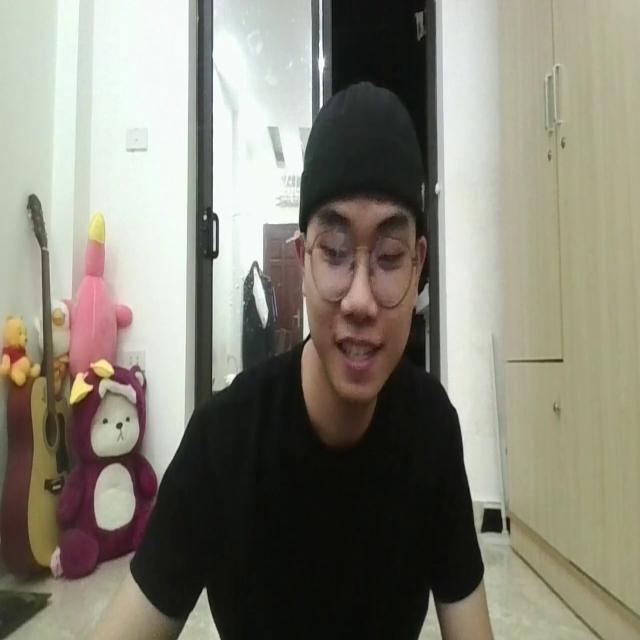student: (98, 84, 494, 636)
